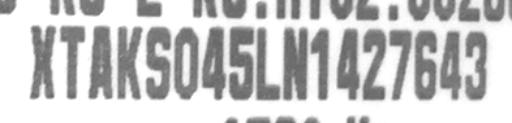letter: (20, 23, 58, 98), (278, 27, 312, 102), (56, 23, 88, 100), (140, 24, 172, 101), (168, 24, 200, 101), (112, 24, 144, 101), (460, 30, 494, 101), (84, 25, 116, 100), (198, 27, 230, 102), (226, 24, 256, 103), (384, 27, 414, 102), (251, 26, 279, 103), (359, 26, 387, 103), (333, 26, 361, 101), (412, 30, 440, 101), (438, 29, 464, 100), (310, 26, 334, 101)
